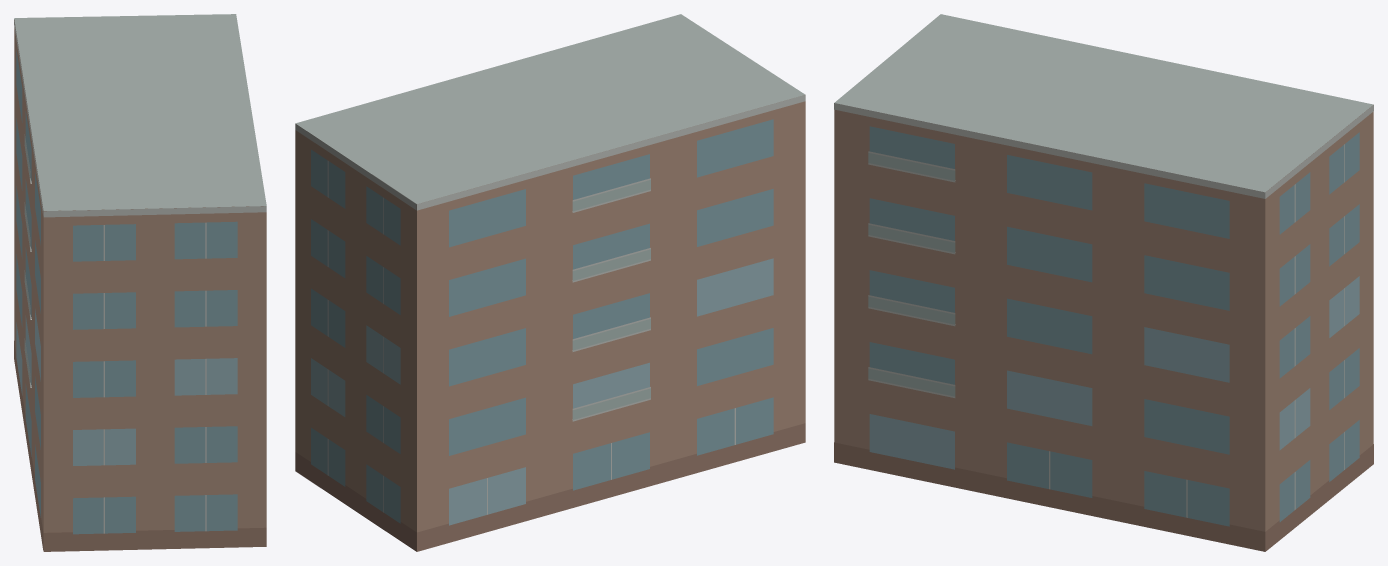
Rendered from survey-upis-32893120.glb.
3 renders of one model, left to right at view 1: azimuth 30°, elevation 25°; view 2: azimuth 150°, elevation 25°; view 3: azimuth 270°, elevation 25°, orthographic. The views are drawn at different scales.
Visible parts, largest first — view 1: survey-upis-32893120.tmp; view 2: survey-upis-32893120.tmp; view 3: survey-upis-32893120.tmp.
Part boxes in pixels (<box>): survey-upis-32893120.tmp: <box>14,14,266,551</box>; survey-upis-32893120.tmp: <box>295,14,805,551</box>; survey-upis-32893120.tmp: <box>834,14,1373,551</box>.
Bounding box in the file's own units: 14.05 × 13.2 × 17.97.
